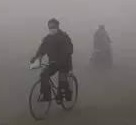person: (29, 16, 79, 120), (89, 23, 115, 67)
